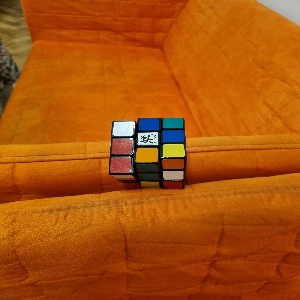cube: (108, 117, 187, 189)
